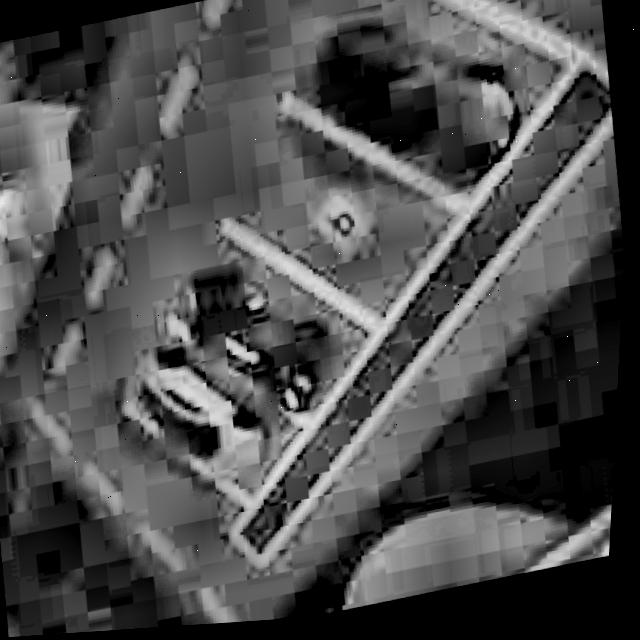car: (271, 0, 546, 221), (147, 235, 362, 448), (102, 315, 294, 522)
